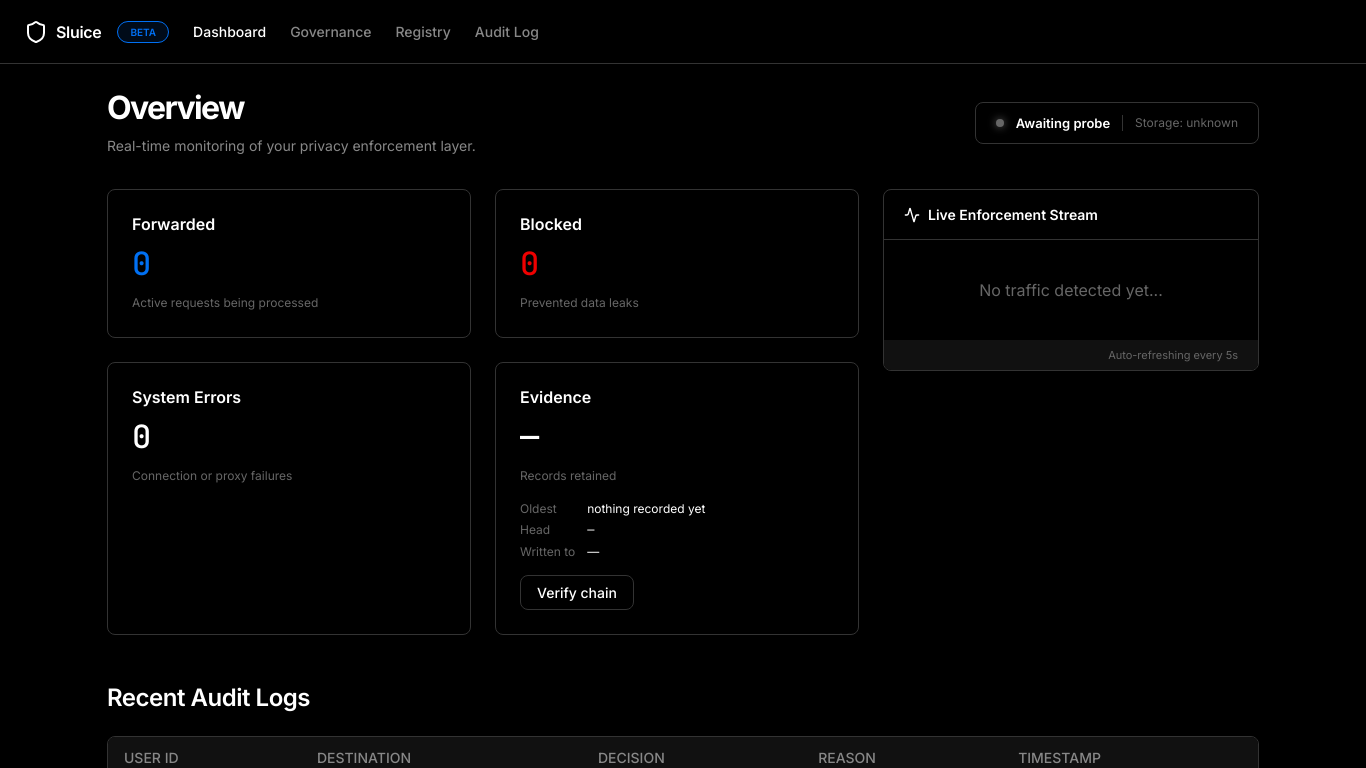
Test case: operator surfaces report what was measured › reports the chain state the proxy verified, including a broken one
Click the button "Verify chain".
click(577, 592)  # box top-left (520, 575), bottom-right (634, 610)
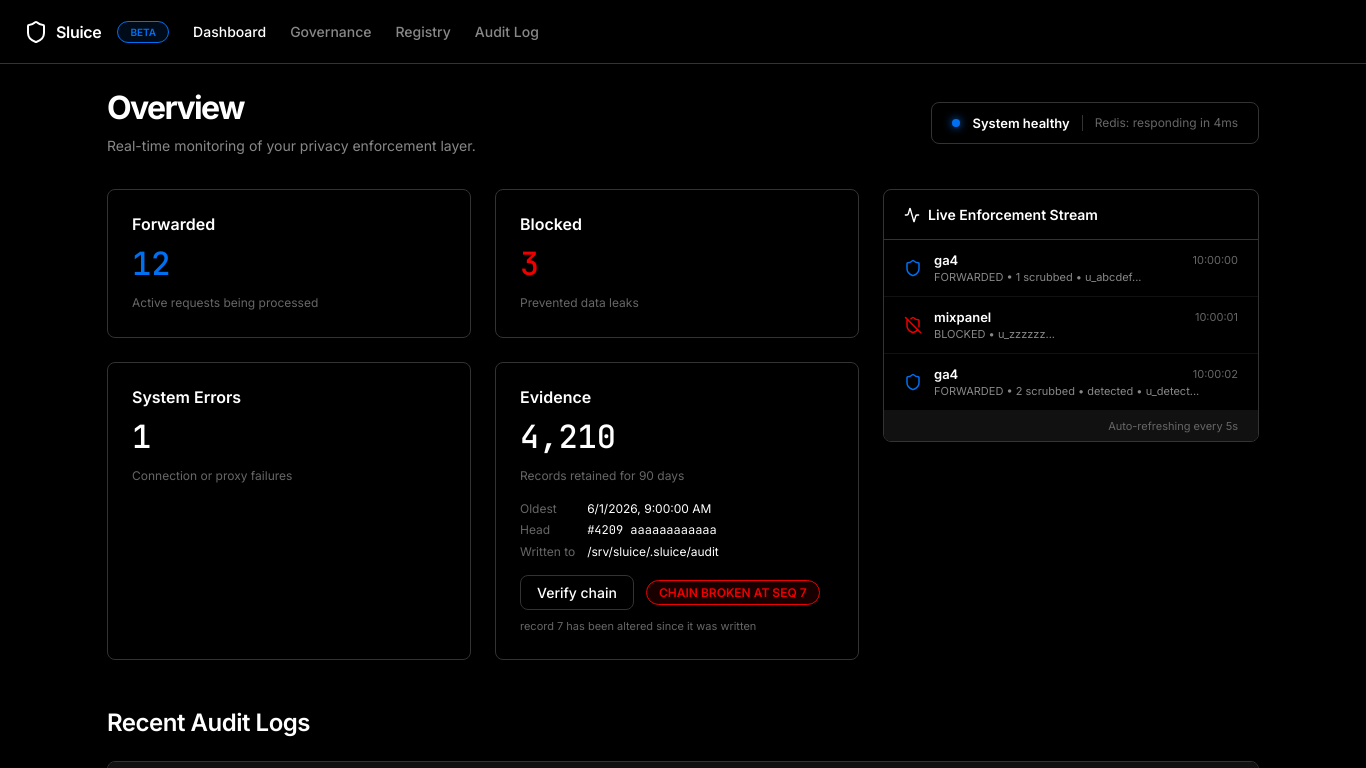
Now the text "Chain broken at seq 7" is shown, box top-left (646, 580), bottom-right (820, 605)
Now the text "record 7 has been altered since it was written" is shown, box top-left (520, 619), bottom-right (756, 633)
